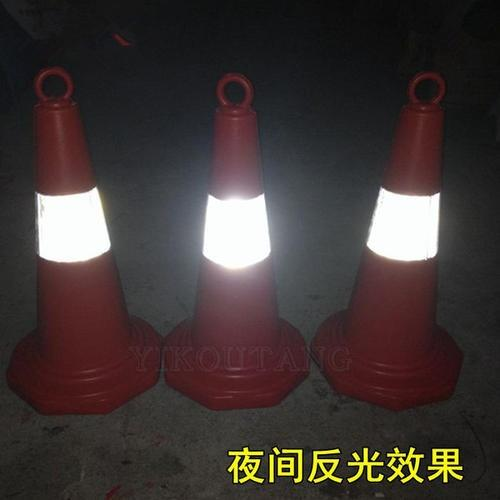cone_barrel: (321, 65, 461, 409), (13, 66, 149, 419), (179, 64, 297, 406)
